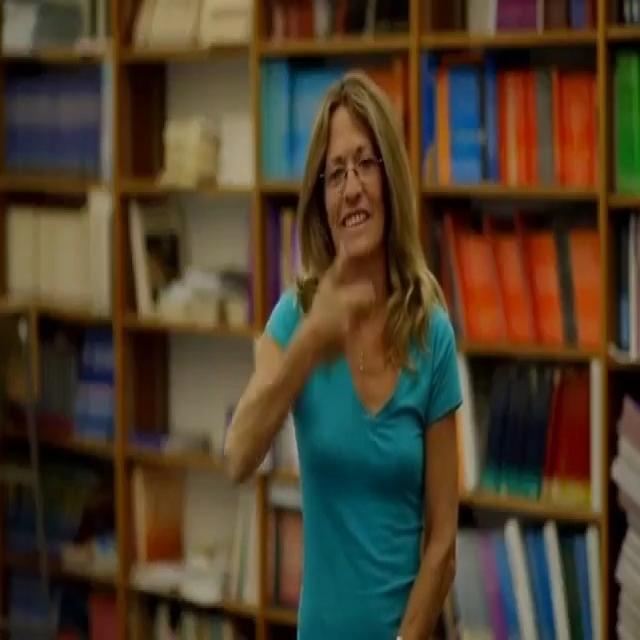pizza: (290, 229, 386, 369)
